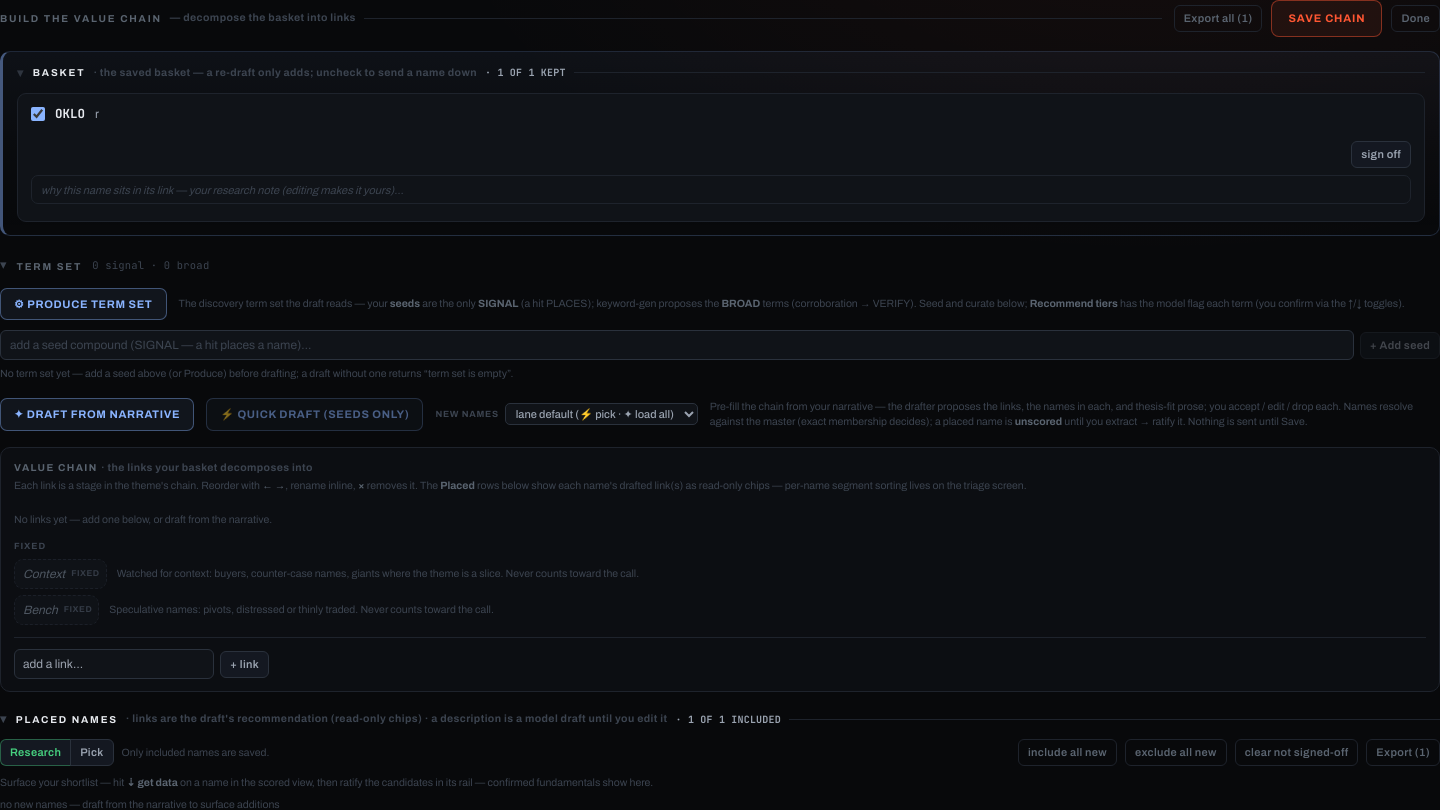
it: ChainEditor — draft from narrative (S5 5c) › editing the description is the ONE act that makes it "your words" — and it does NOT auto-sign-off
The image size is (1440, 810).
Click the button "✦ Draft from narrative" at (97, 414), box [0,398,194,430]
(page scrolled)
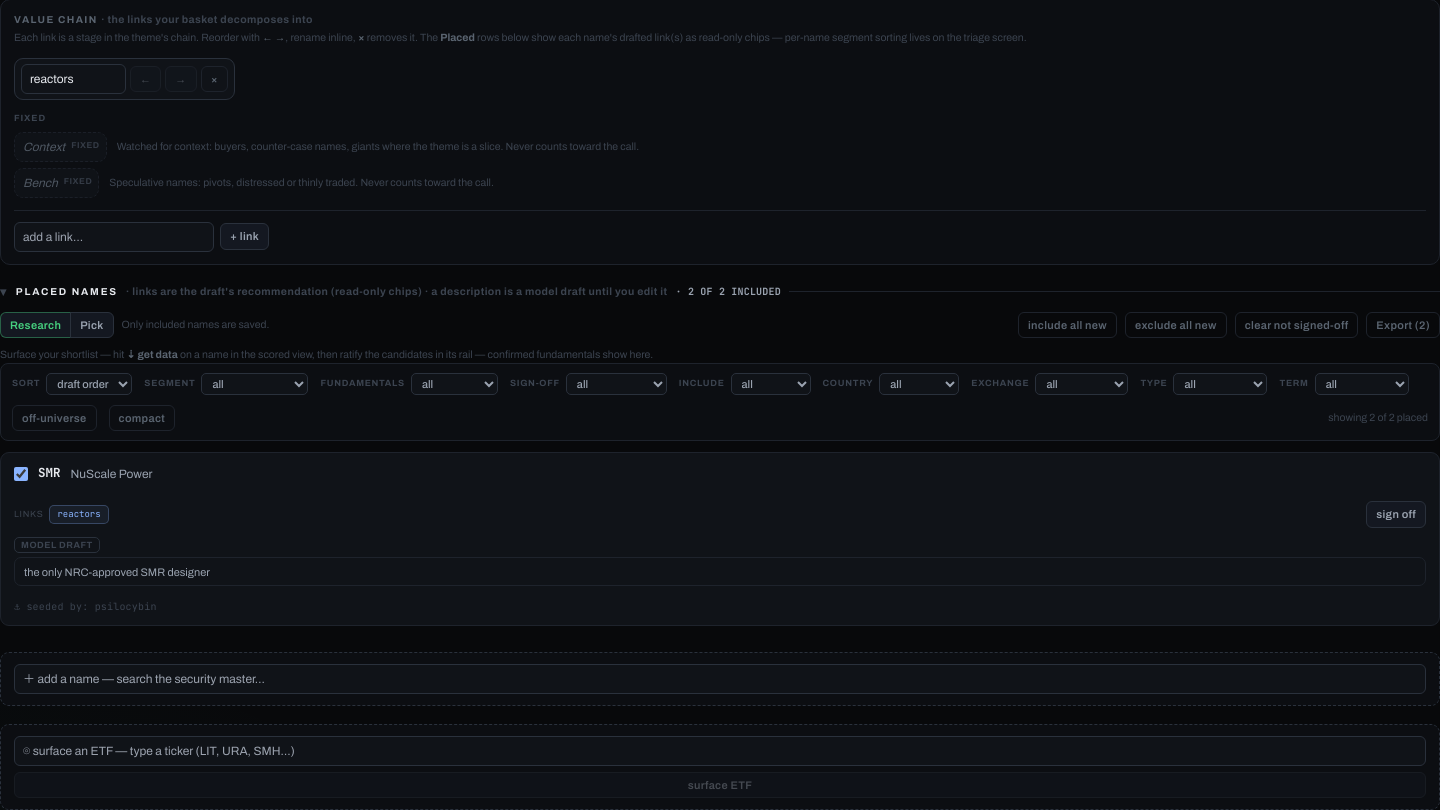
Now the text "model draft" is shown, box [14,536,100,552]
Type " — refined" into the text box named "thesis-fit for SMR" at (720, 572), box [14,557,1426,586]
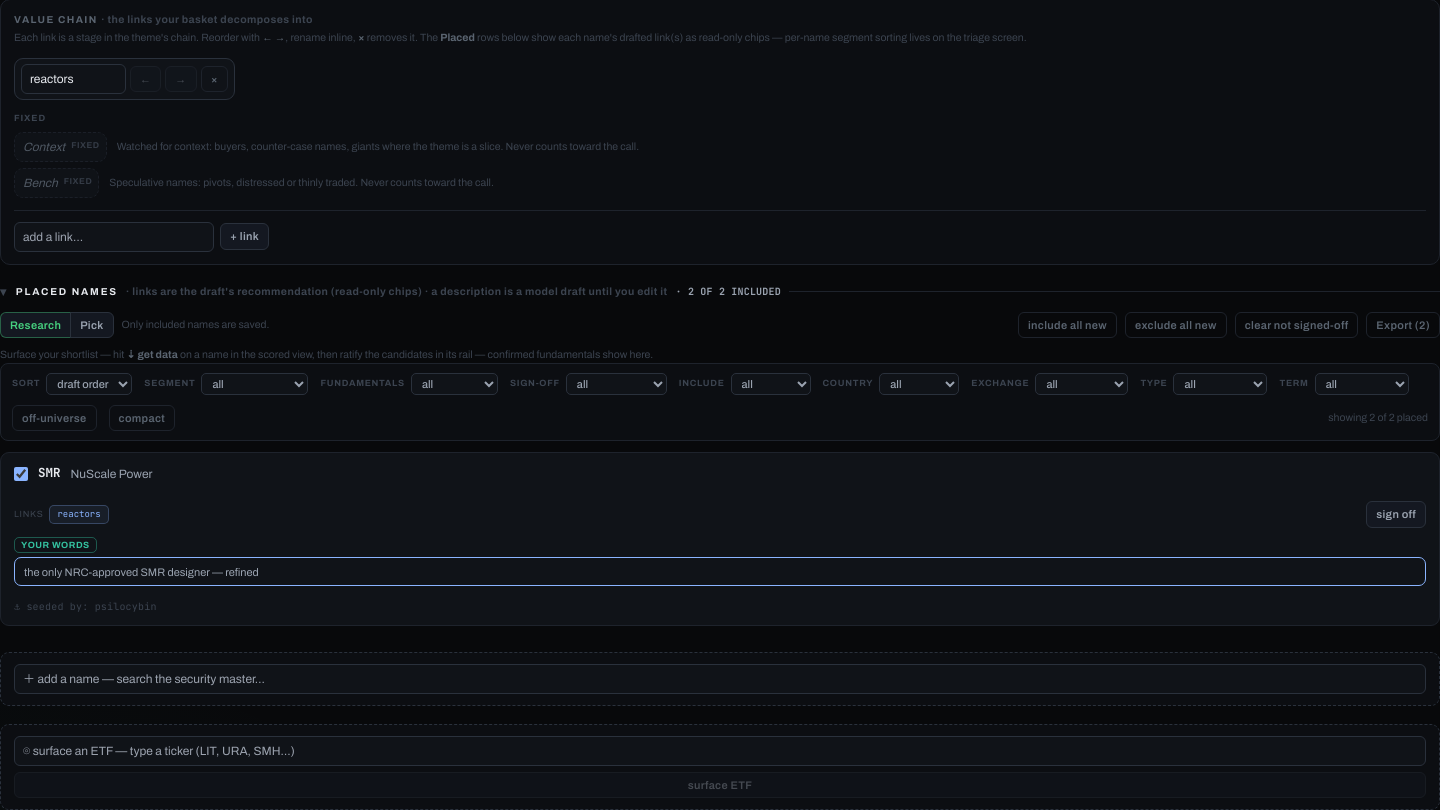
Now the button with aria-label "sign off SMR" is shown, box [1366,501,1426,528]
Now the text "your words" is shown, box [14,536,97,552]
Now the text box named "thesis-fit for SMR" holds "the only NRC-approved SMR designer — refined", box [14,557,1426,586]
